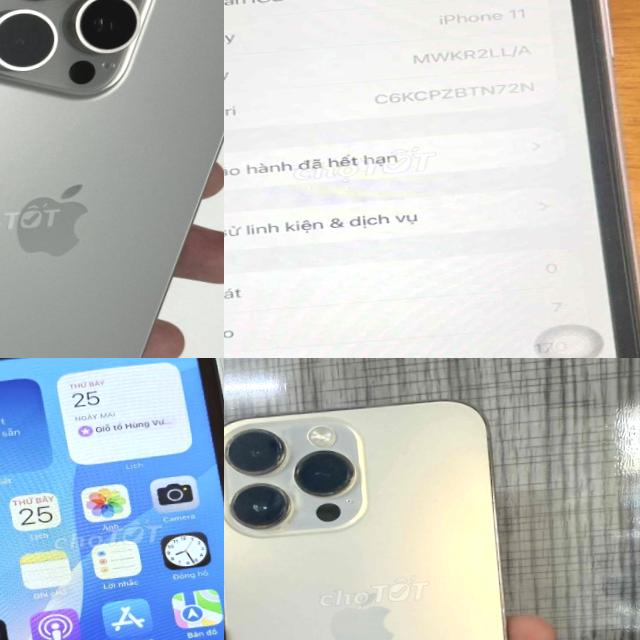gen_11: (224, 0, 640, 358)
gen_14: (224, 382, 547, 640)
gen_15: (0, 0, 224, 358)
gen_x_xs: (0, 358, 224, 640)
